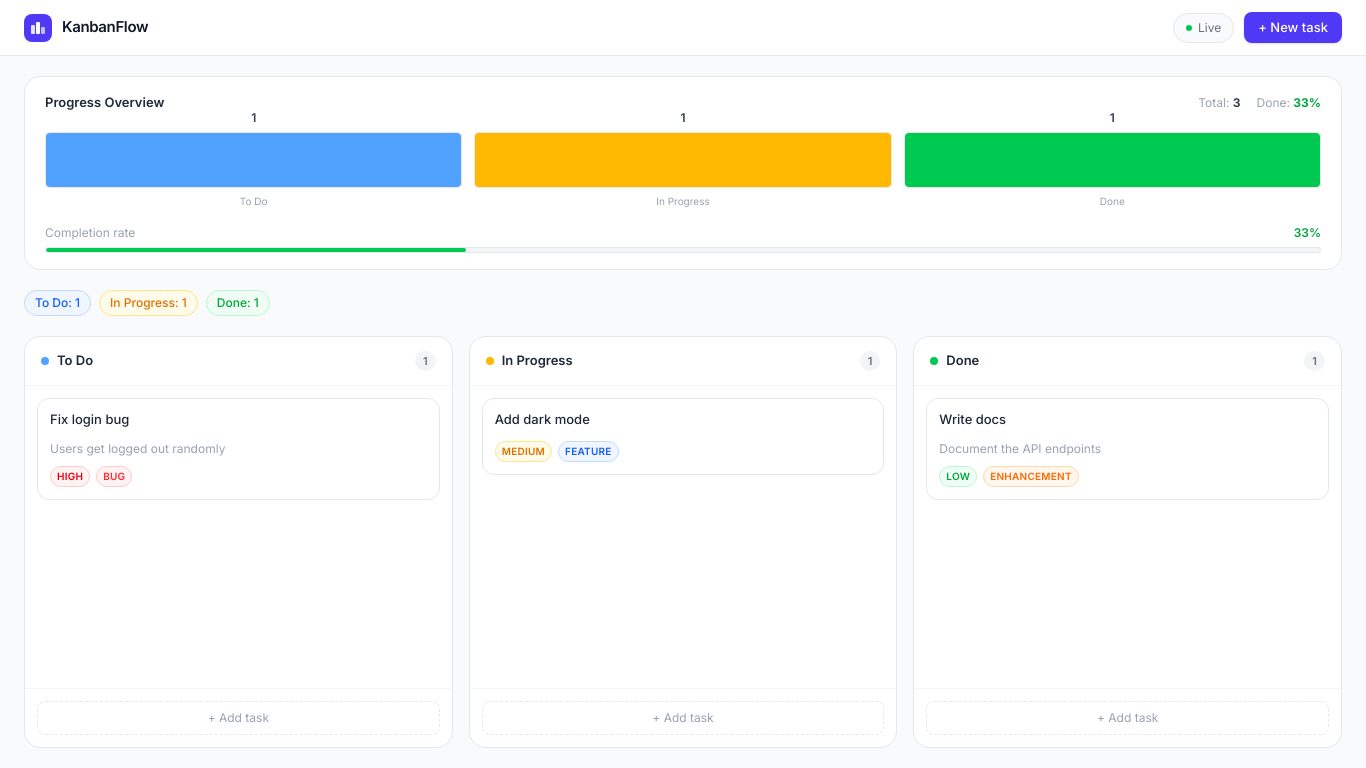
Test: KanbanBoard › opens create modal from column add button
The width and height of the screenshot is (1366, 768).
Step 1. Click the button with test id "add-task-todo" → (238, 718), box [37, 701, 440, 735]
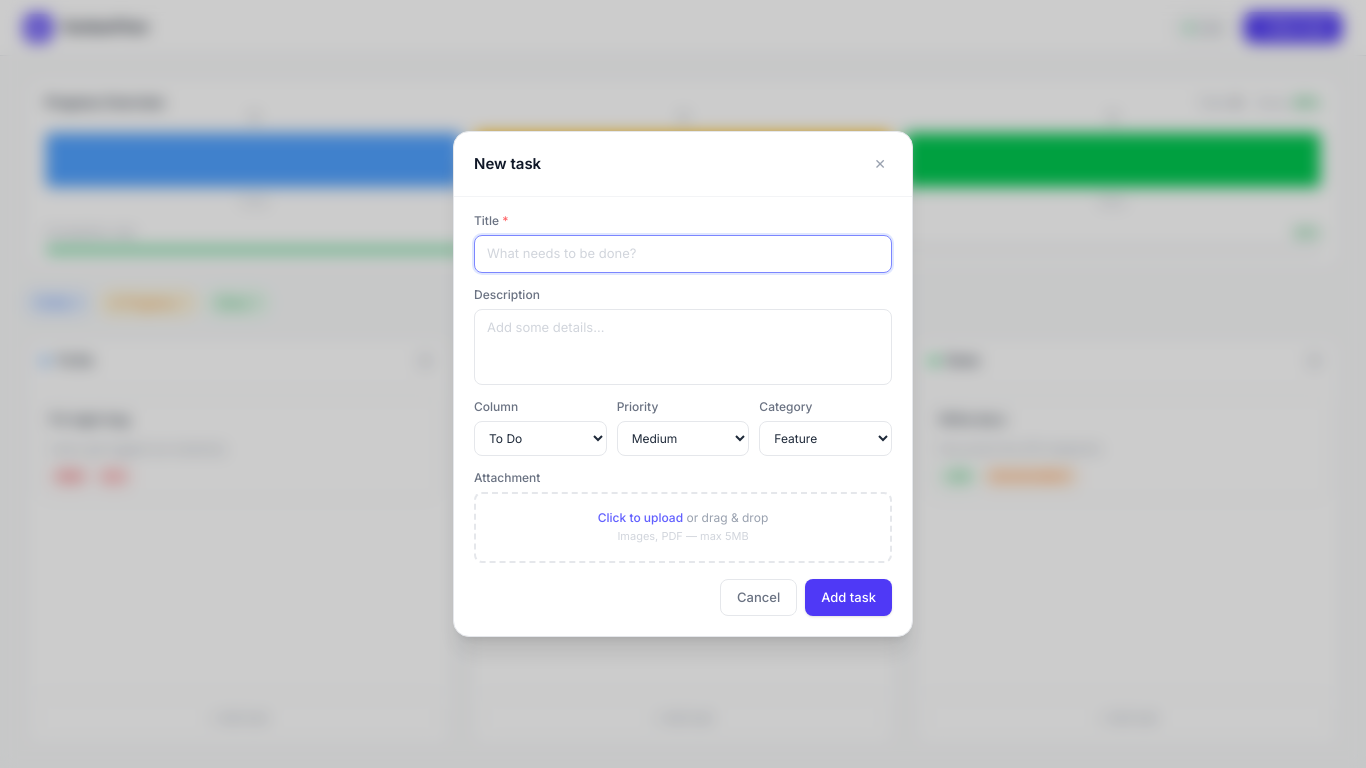
Check: the element with test id "modal-backdrop" is shown
